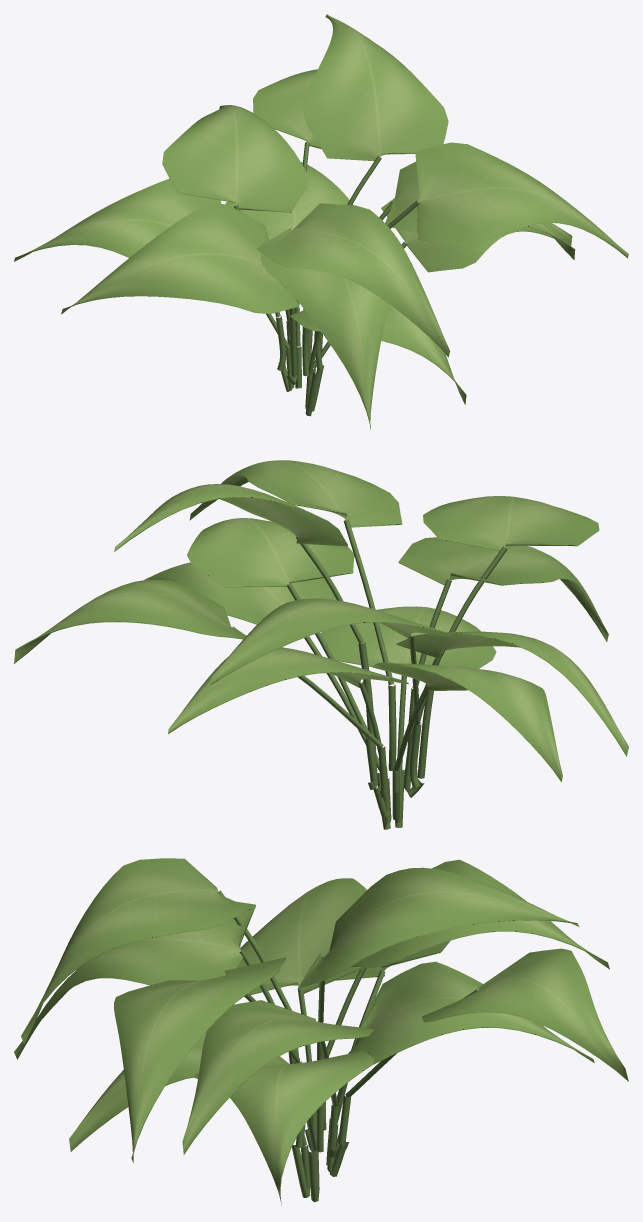
The model's file is syngonium-stage-4.glb.
3 renders of one model, top to bottom at view 1: azimuth 30°, elevation 25°; view 2: azimuth 150°, elevation 25°; view 3: azimuth 270°, elevation 25°, orthographic. The views are drawn at different scales.
Parts seen in each view (by area): view 1: Leaf_11, Leaf_2, Leaf_8, Leaf_7, Leaf_10, Leaf_5, Leaf_4, PlantBranches, Leaf_9, Leaf_3, Leaf_1, Leaf_0 (+1 smaller); view 2: PlantBranches, Leaf_6, Leaf_10, Leaf_8, Leaf_9, Leaf_5, Leaf_4, Leaf_7, Leaf_1, Leaf_0, Leaf_11, Leaf_2 (+1 smaller); view 3: Leaf_11, Leaf_10, Leaf_8, Leaf_6, Leaf_9, Leaf_1, Leaf_3, Leaf_5, Leaf_2, PlantBranches, Leaf_7, Leaf_0 (+1 smaller).
Boxes of the visible parts, x1,y1,x2,y2 form: Leaf_11: (302, 14, 448, 161); Leaf_2: (61, 202, 299, 314); Leaf_8: (415, 142, 628, 258); Leaf_7: (162, 105, 307, 212); Leaf_10: (256, 203, 449, 357); Leaf_5: (260, 239, 390, 429); Leaf_4: (14, 178, 220, 261); PlantBranches: (233, 142, 418, 416); Leaf_9: (253, 69, 321, 148); Leaf_3: (381, 198, 572, 272); Leaf_1: (225, 162, 353, 239); Leaf_0: (290, 305, 466, 404); PlantBranches: (237, 519, 507, 829); Leaf_6: (187, 518, 354, 587); Leaf_10: (423, 496, 599, 551); Leaf_8: (189, 460, 402, 527); Leaf_9: (14, 579, 244, 663); Leaf_5: (398, 537, 608, 641); Leaf_4: (372, 662, 562, 782); Leaf_7: (210, 598, 455, 685); Leaf_1: (168, 647, 408, 733); Leaf_0: (321, 606, 496, 668); Leaf_11: (114, 484, 347, 551); Leaf_2: (396, 631, 628, 756); Leaf_11: (297, 867, 579, 989); Leaf_10: (21, 858, 250, 1044); Leaf_8: (114, 957, 285, 1162); Leaf_6: (182, 1000, 374, 1154); Leaf_9: (422, 948, 628, 1081); Leaf_1: (348, 961, 594, 1064); Leaf_3: (194, 1051, 374, 1205); Leaf_5: (14, 901, 255, 1059); Leaf_2: (237, 878, 366, 994); PlantBranches: (218, 890, 476, 1202); Leaf_7: (351, 859, 609, 969); Leaf_0: (69, 1031, 288, 1151).
Bounding box in the file's own units: 2.03 × 1.26 × 1.87.
Materials: 2 (1 with a texture image).
